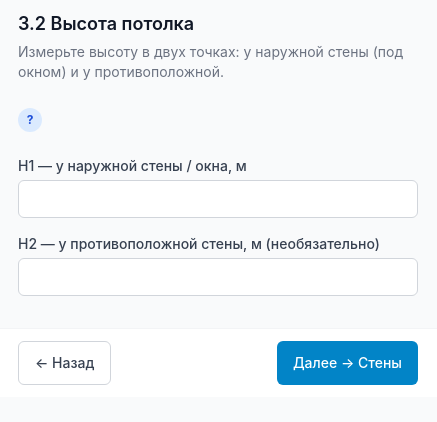
Test: CeilingHeightStep › shows validation error for H1 above maximum
Step 1. Type "11" into the number field labelled "H1 — у наружной стены / окна, м" → (218, 199), box [18,180,418,218]
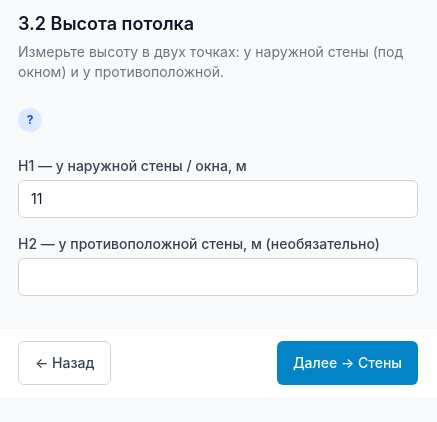
Step 2. Click the button "Далее → Стены" → (347, 363), box [277,341,418,385]
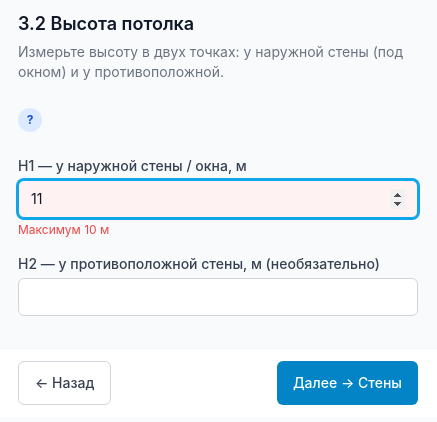
expect the text "Максимум 10 м" is shown: met, box [18,222,109,237]
